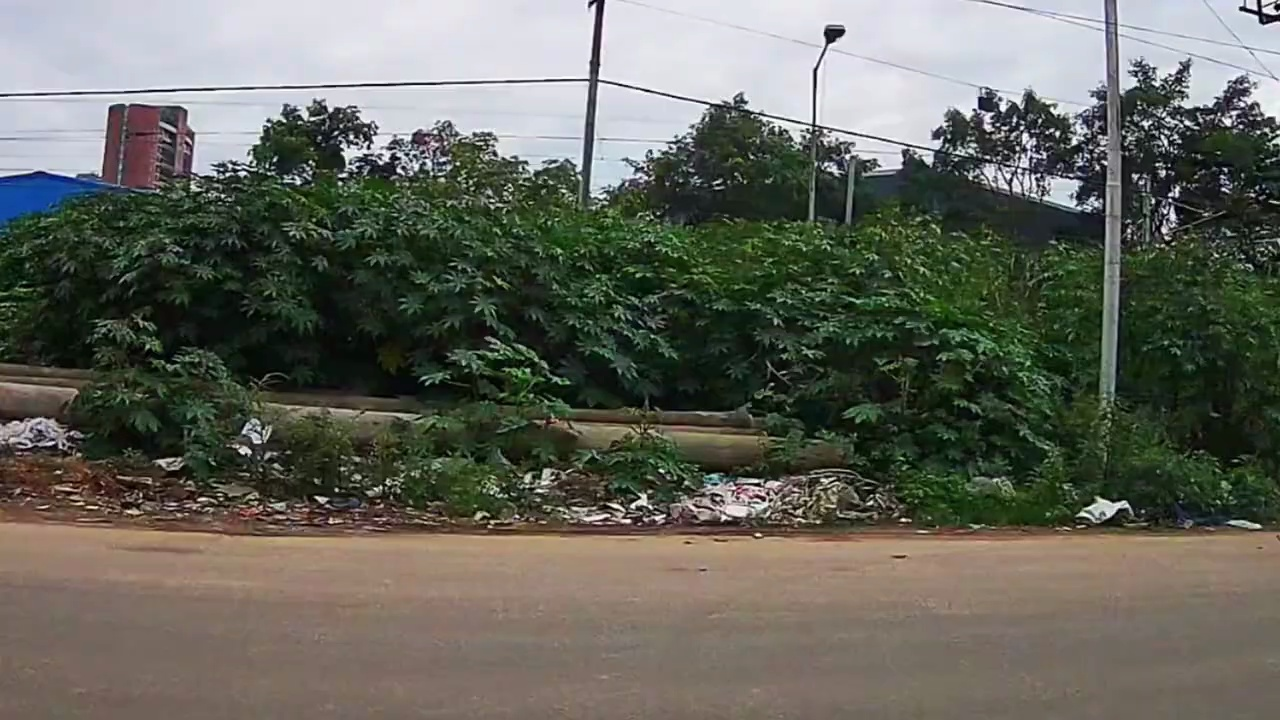garbage: (696, 472, 888, 528), (144, 484, 416, 523), (548, 497, 685, 528), (5, 410, 60, 451)
